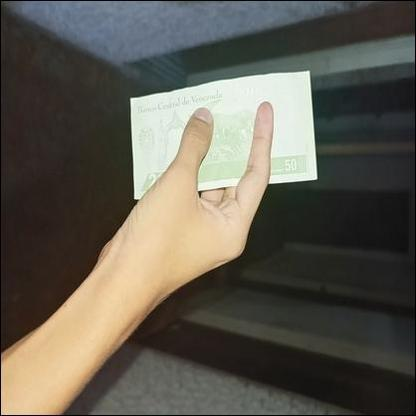fifty-back-vef: (130, 70, 318, 201)
